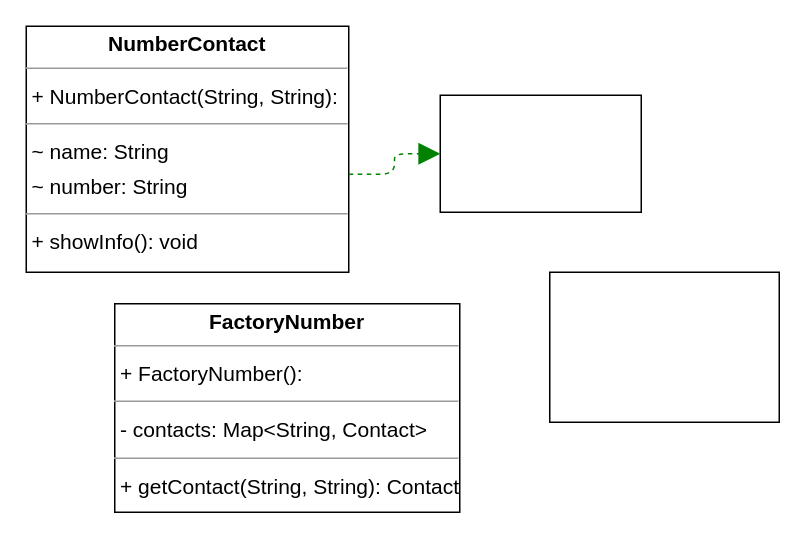
The diagram is 806 pixels wide and 539 high, and some of its shapes have lost their labels. The shapes that lost their labels are listed below. From the top down, each one's centre as x and y in pixels, then its label:
At pixel 540 153: "<<interface>> Contact + showInfo(): void".
At pixel 663 346: "Main + Main(): + main(String[]): void".
